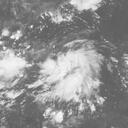cyclone: (33, 50, 103, 105)
